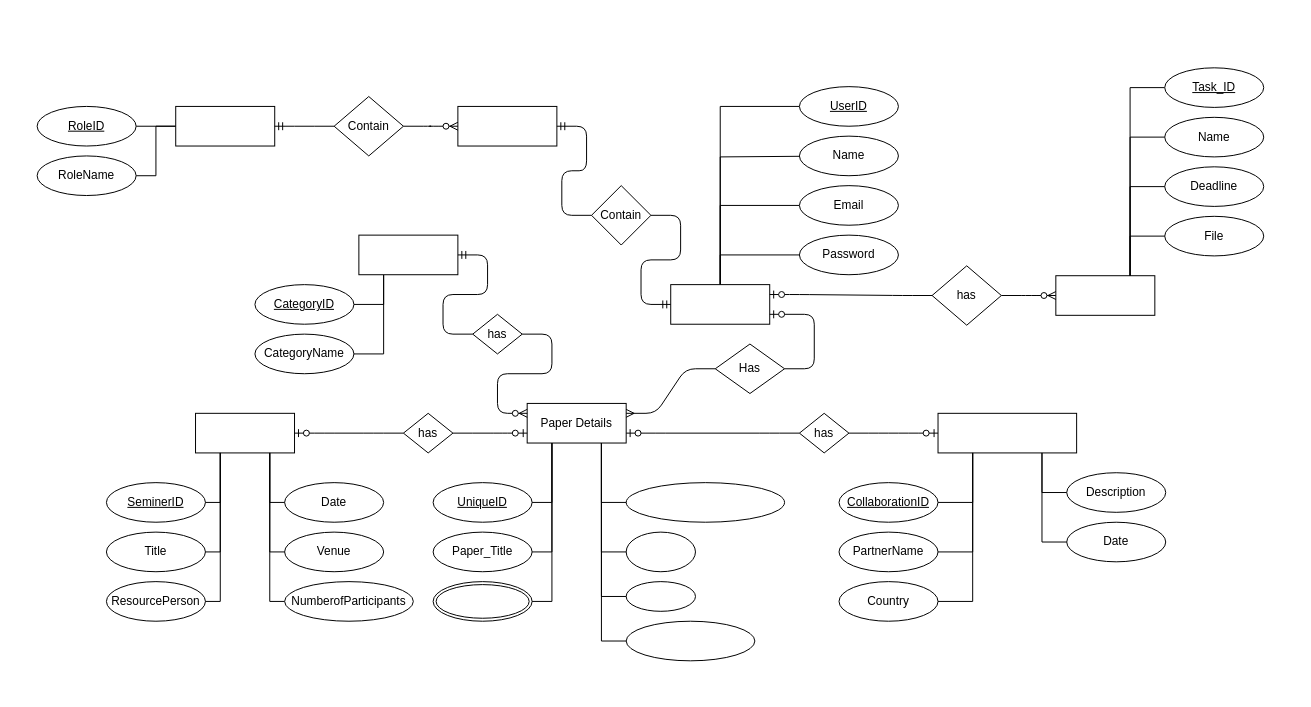
Some shapes in this 1311 by 707 pixel diagram are drawn without their labels. Each missing label, with the centre of its shape:
"Author" belongs at point (482, 601).
"Book_or_Journal_Name" belongs at point (705, 502).
"ConferenceLocation" belongs at point (690, 640).
"Page" belongs at point (660, 596).
"PaperCategory" belongs at point (408, 254).
"ResearchCollaboration" belongs at point (1007, 432).
"ResearchSeminar" belongs at point (245, 432).
"Role" belongs at point (225, 125).
"Task" belongs at point (1105, 295).
"User" belongs at point (720, 304).
"UserRole" belongs at point (507, 125).
"Volume" belongs at point (660, 551).
